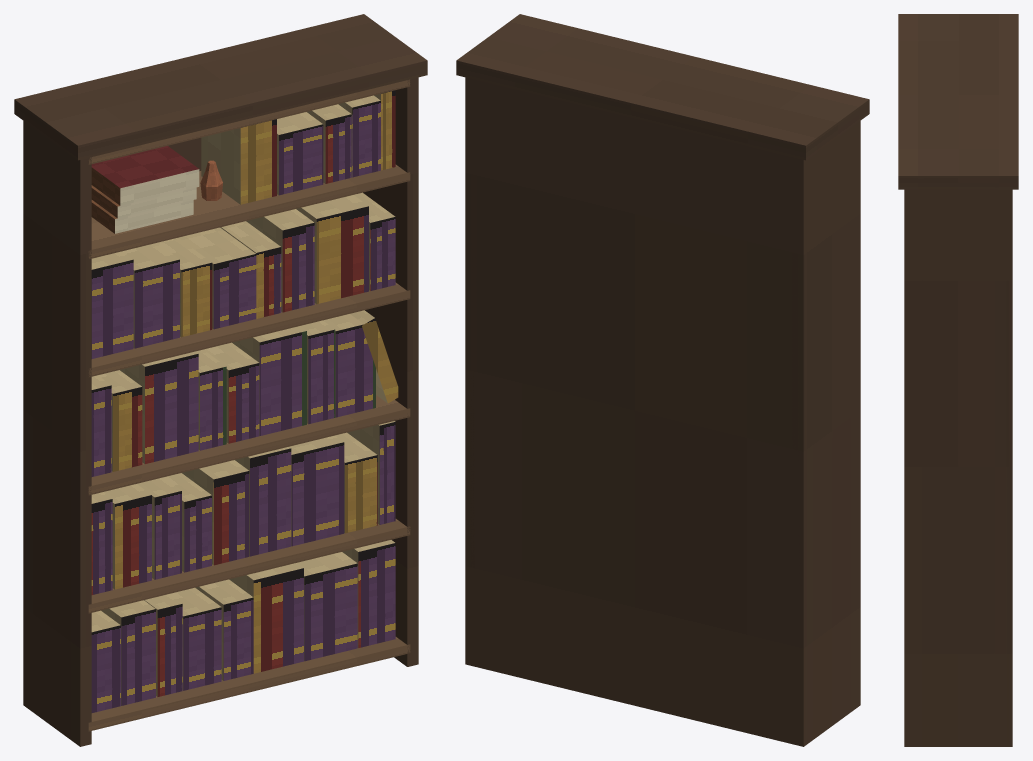
File: bookshelf-wall.glb
The picture shows the model from 3 angles, left to right: view 1: azimuth 30°, elevation 25°; view 2: azimuth 150°, elevation 25°; view 3: azimuth 270°, elevation 25°; orthographic projection. The views are drawn at different scales.
Parts seen in each view (by area): view 1: bookshelf-wall.001; view 2: bookshelf-wall.001; view 3: bookshelf-wall.001.
Part boxes in pixels (x1,y1,x2,y2): bookshelf-wall.001: (14,14,427,746); bookshelf-wall.001: (456,14,869,746); bookshelf-wall.001: (898,14,1018,746).
Bounding box in the file's own units: 1.24 × 2.05 × 0.39.
1 material, 1 textured.
